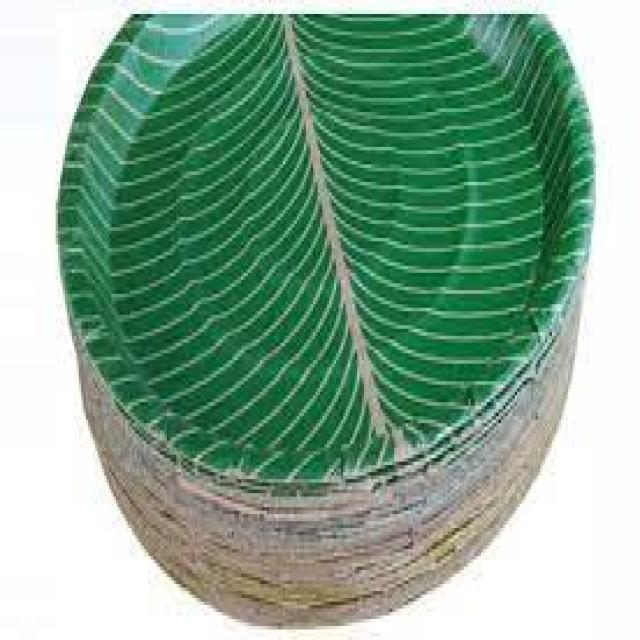PaperCardboard: (54, 12, 598, 628)
